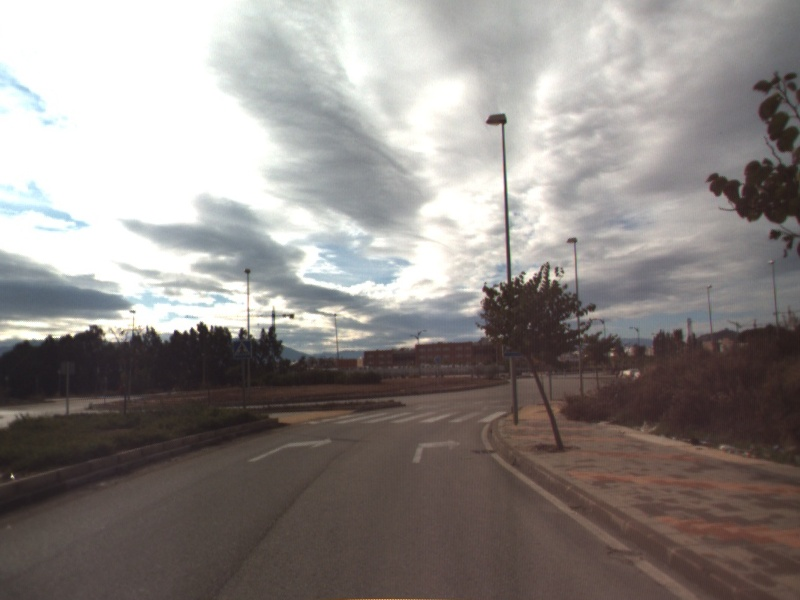RIGHT: (245, 434, 334, 464), (410, 435, 463, 465)
